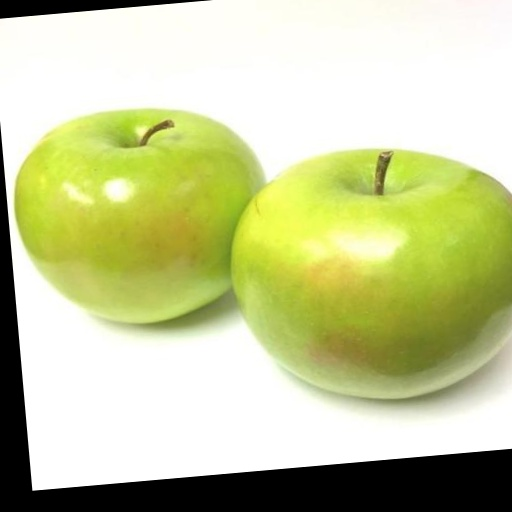fruit: (231, 149, 512, 398), (15, 109, 262, 323)
